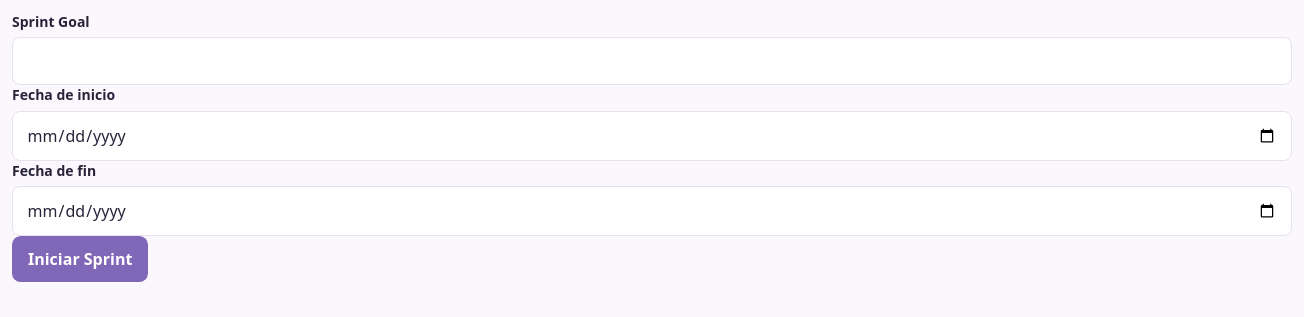
Test case: FormularioInicio › muestra en el aviso el error de conexión
Type "Meta" into the field labelled "Sprint Goal" at [652, 61], box [12,37,1292,85]
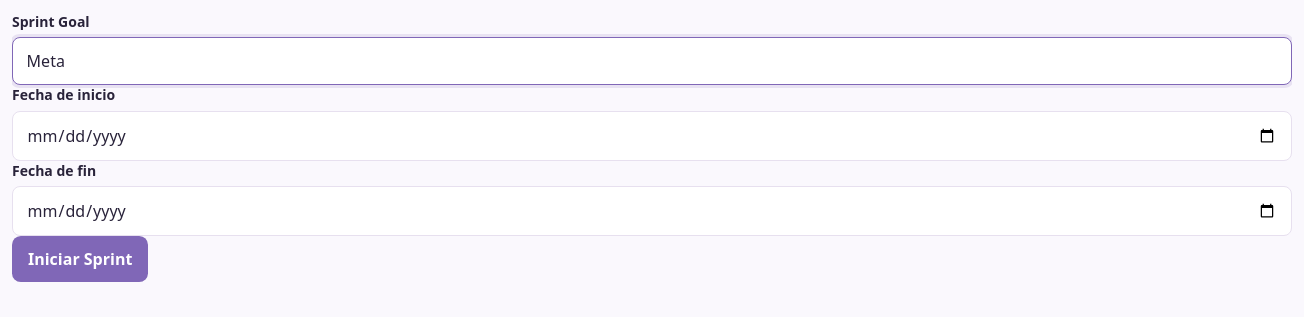
Type "2026-10-01" into the date field labelled "Fecha de inicio" at [652, 136], box [12,111,1292,161]
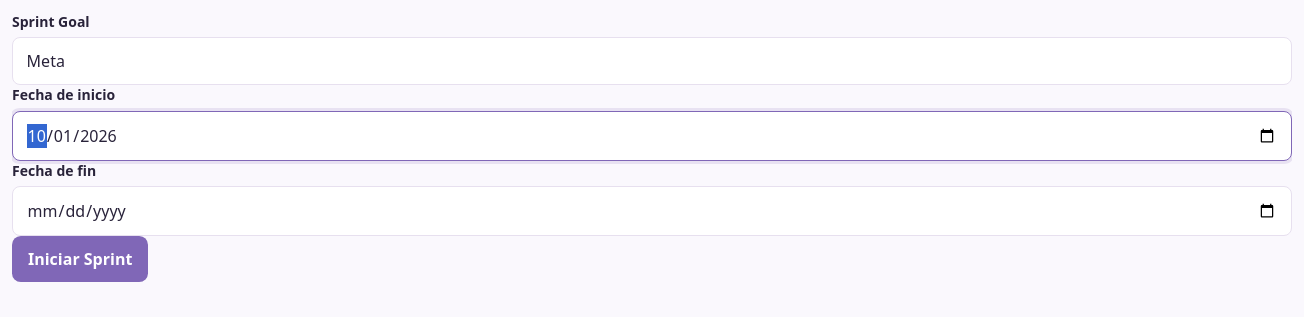
Type "2026-10-15" into the date field labelled "Fecha de fin" at [652, 211], box [12,186,1292,236]
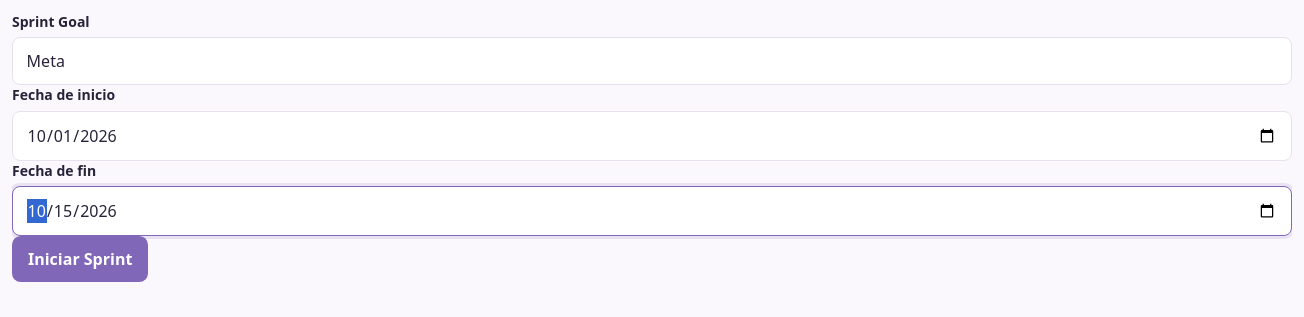
Click the button "Iniciar Sprint" at [80, 259], box [12,236,148,282]
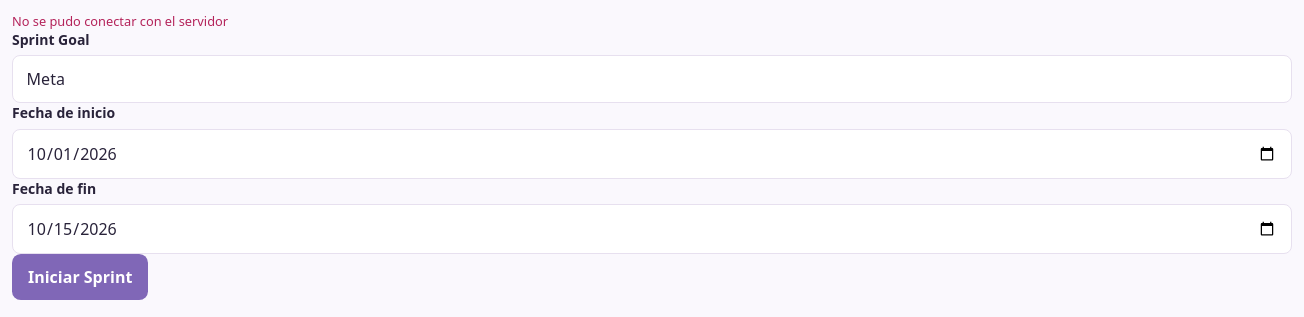
Check: the message reads "No se pudo conectar con el servidor", box [12,12,228,30]
